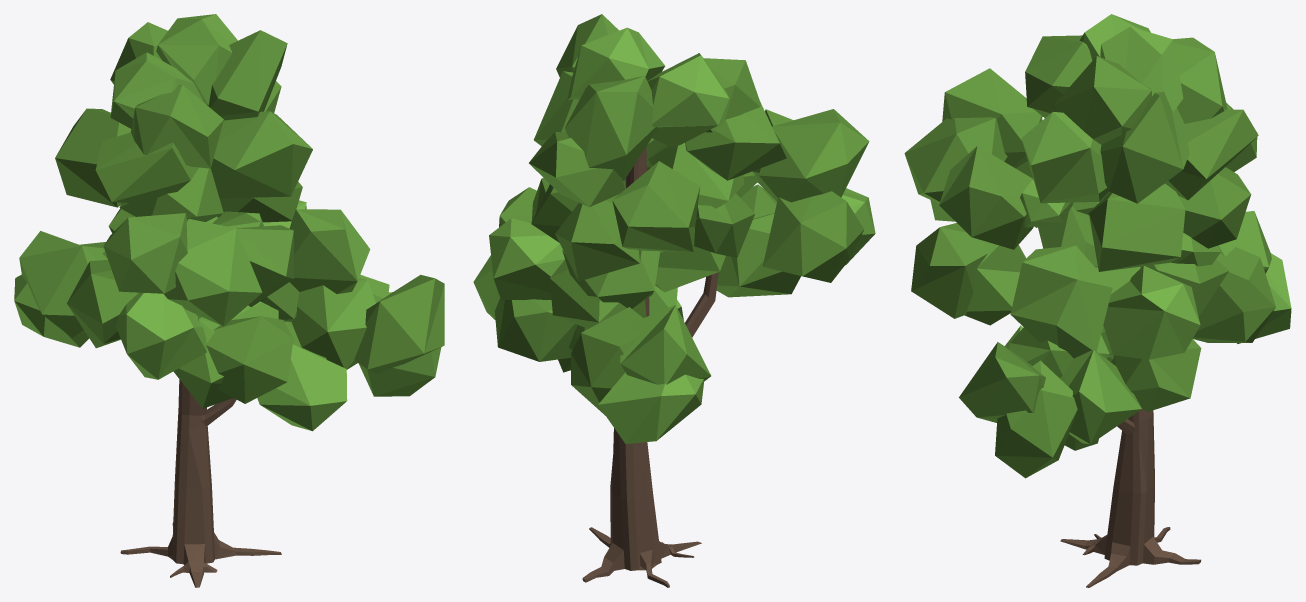
Rendered from tree5.glb.
The picture shows the model from 3 angles, left to right: view 1: azimuth 30°, elevation 25°; view 2: azimuth 150°, elevation 25°; view 3: azimuth 270°, elevation 25°; orthographic projection.
Visible parts, largest first — view 1: tree_0098; view 2: tree_0098; view 3: tree_0098.
Boxes of the visible parts, x1,y1,x2,y2 form: tree_0098: [14, 14, 444, 587]; tree_0098: [473, 14, 875, 587]; tree_0098: [904, 14, 1291, 587].
Bounding box in the file's own units: 2.54 × 3.59 × 2.36.
